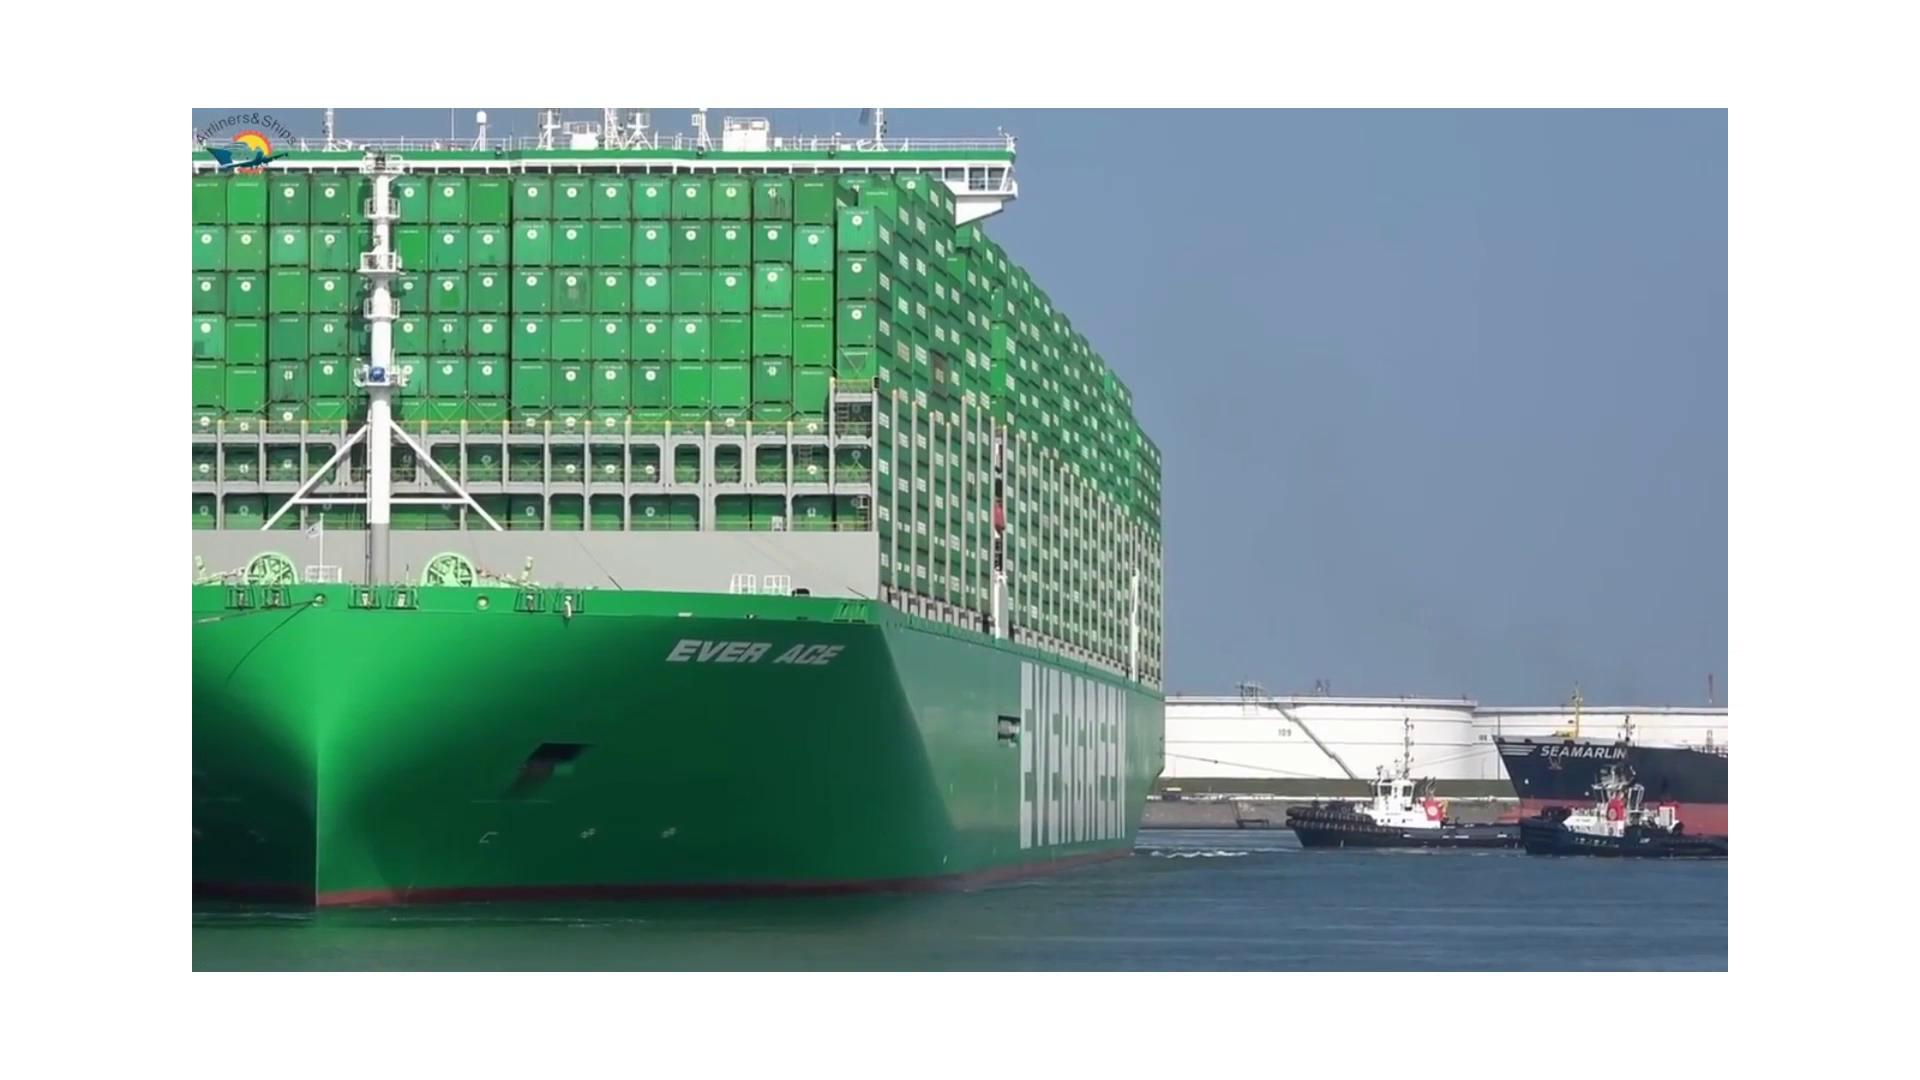OCR: (988, 646, 1149, 857), (662, 611, 858, 690)
